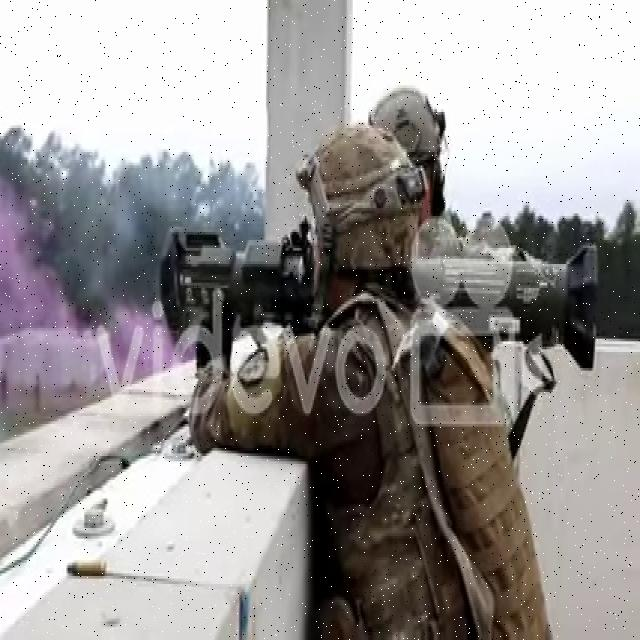bazooka: (157, 220, 605, 385)
